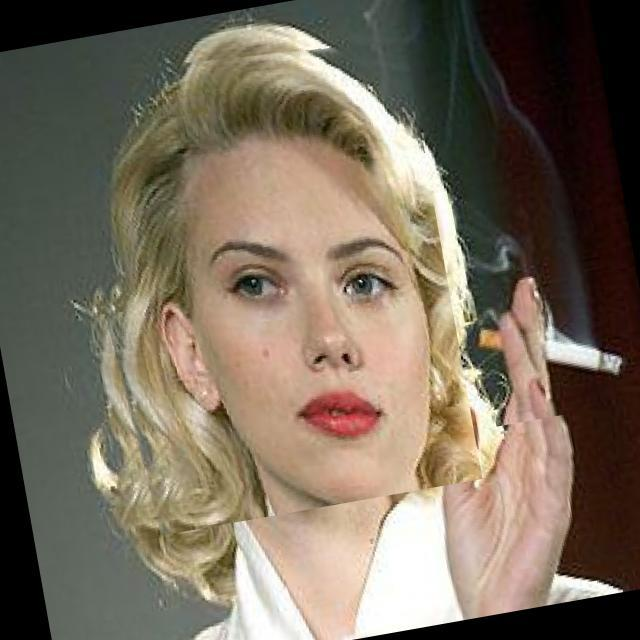cigarette: (460, 262, 640, 428)
